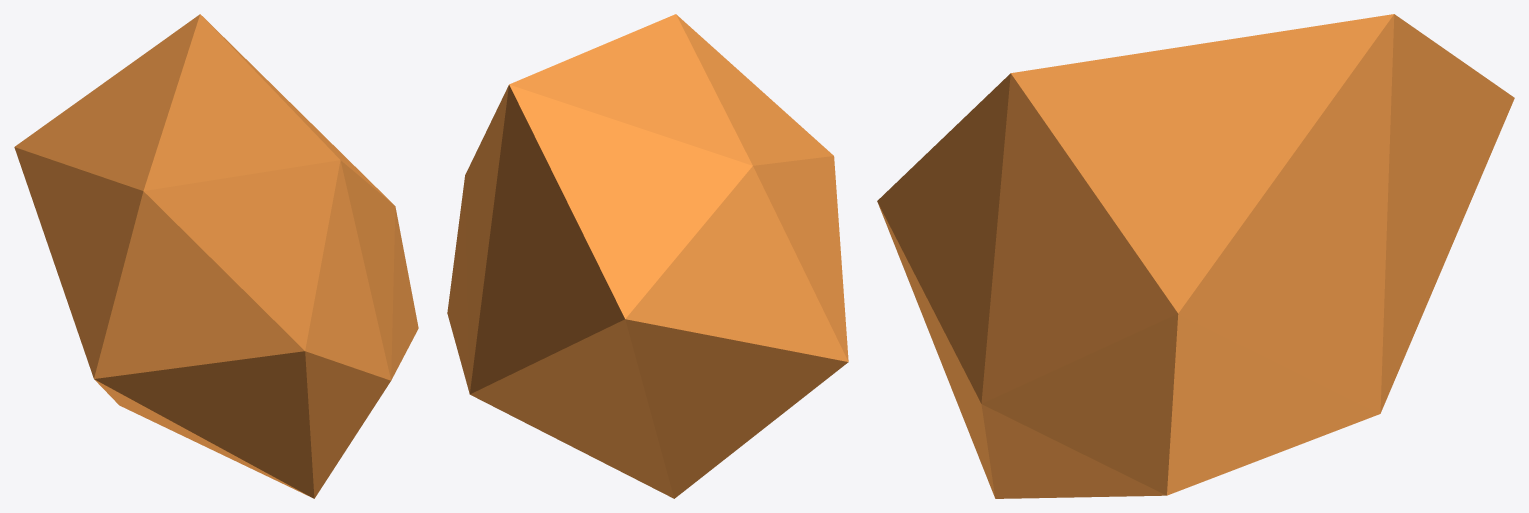
The model's file is FallingRock_Small.fbx.
3 views of the same model, side by side, from view 1: azimuth 30°, elevation 25°; view 2: azimuth 150°, elevation 25°; view 3: azimuth 270°, elevation 25° (orthographic). The views are drawn at different scales.
Parts seen in each view (by area): view 1: FallingRock_Small; view 2: FallingRock_Small; view 3: FallingRock_Small.
Part boxes in pixels (x1=…): FallingRock_Small: x1=14, y1=14, x2=418, y2=498; FallingRock_Small: x1=447, y1=14, x2=848, y2=498; FallingRock_Small: x1=877, y1=14, x2=1514, y2=498.
Size of the model in its own units: 67.31 by 71.91 by 82.11.
